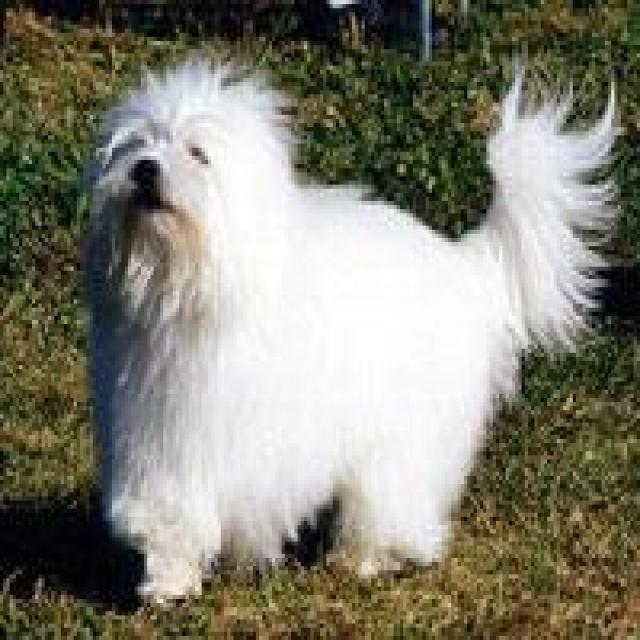dandie_dinmont: (83, 62, 618, 607)
